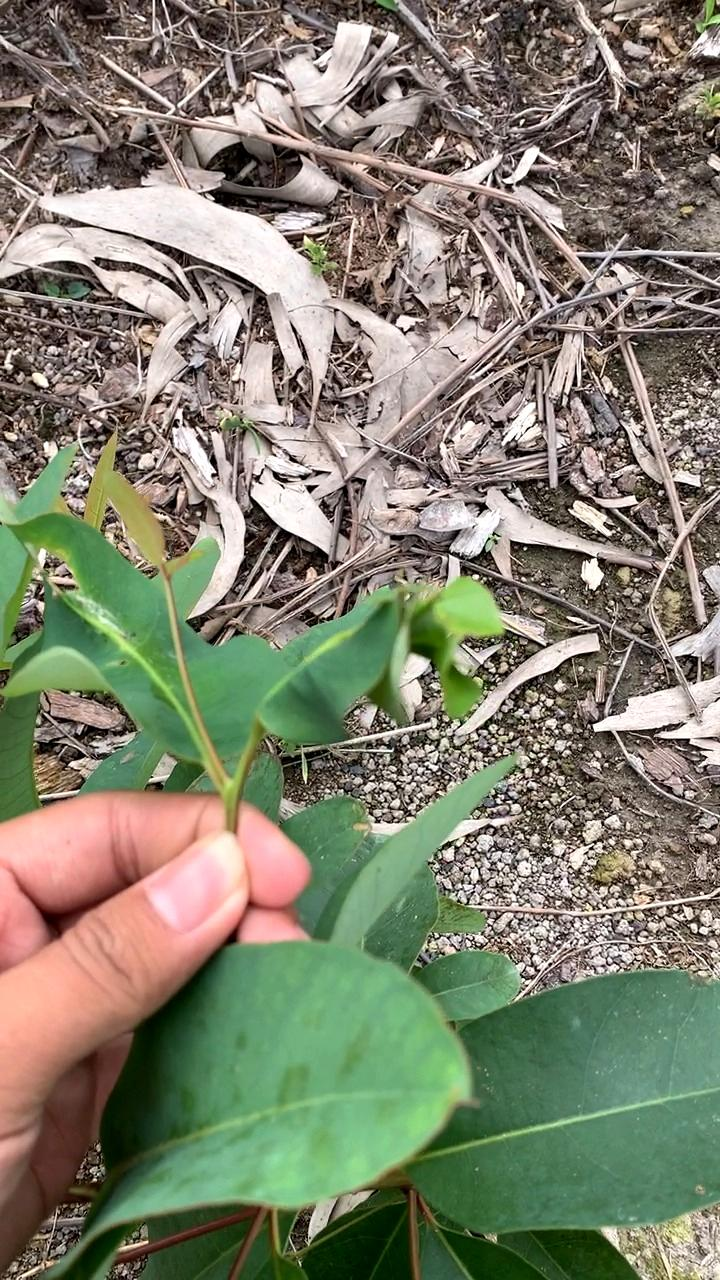Leaf Roller - Leaf: (260, 576, 497, 749)
